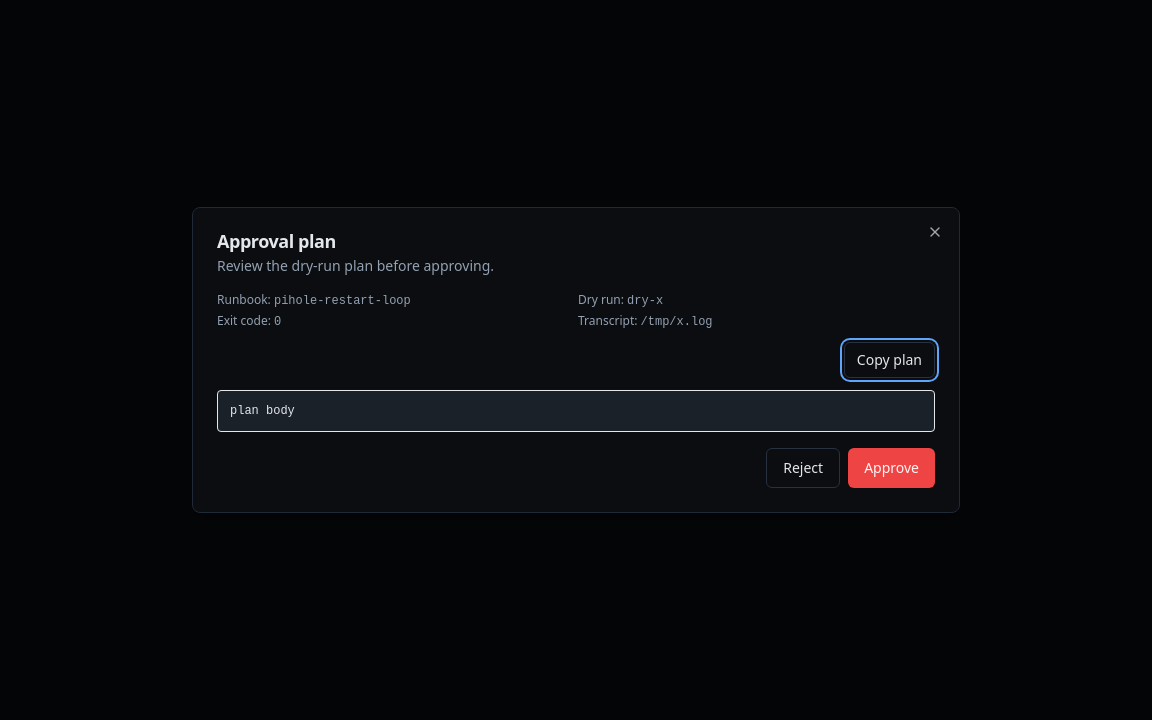
Test: ApprovalPlanDialog › PIN branch: renders ConfirmPinDialog instead of ConfirmPhraseDialog when usePinStatus returns set:true
The width and height of the screenshot is (1152, 720).
Click the button with test id "approval-approve": (892, 468) top-left (848, 448), bottom-right (935, 488)
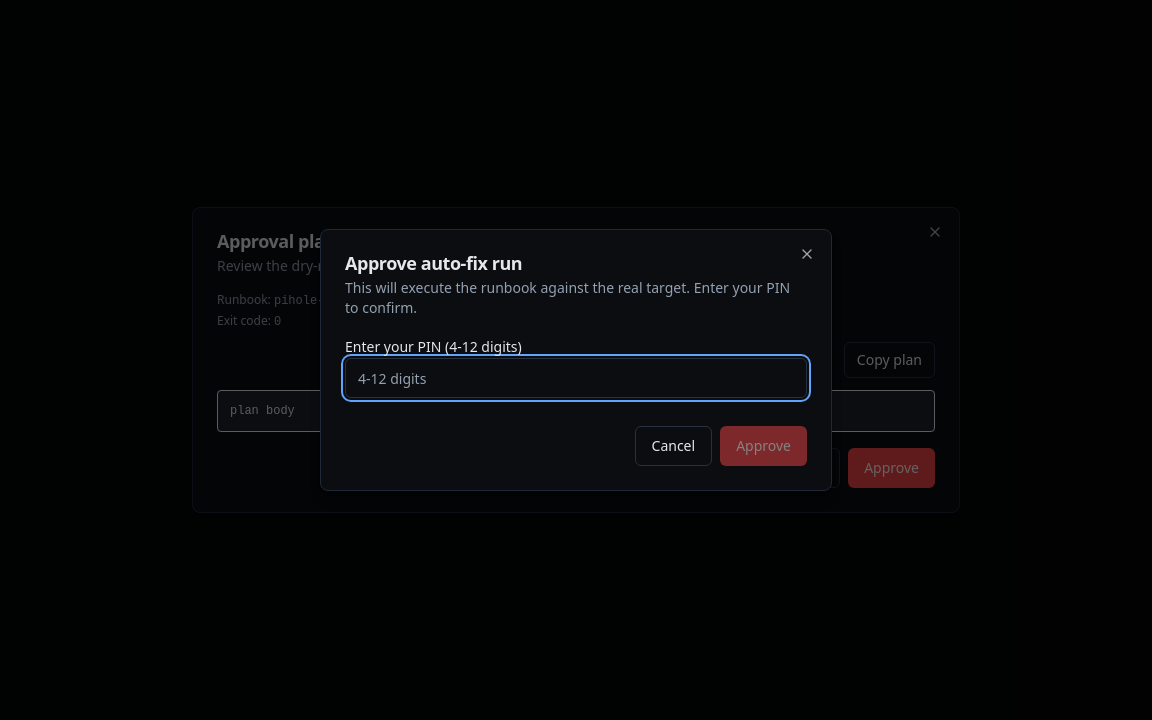
Expected: the password field labelled "PIN" is shown, top-left (345, 358), bottom-right (807, 398)
